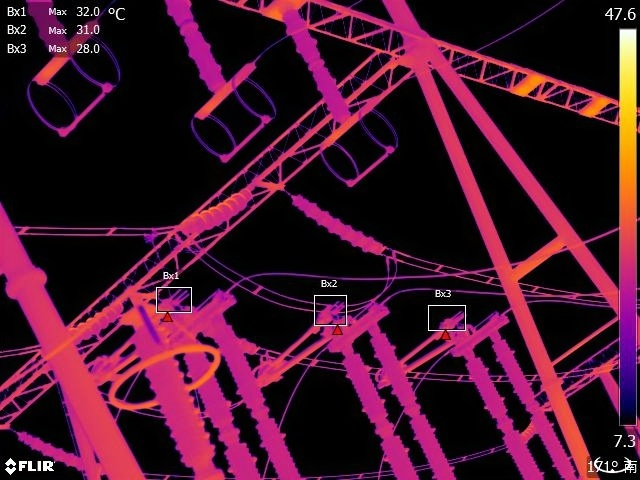insulator: (285, 2, 353, 117), (286, 190, 391, 259), (162, 1, 232, 84), (177, 179, 254, 234), (14, 428, 85, 473), (65, 295, 125, 343), (18, 1, 67, 51)
lightning arrester: (97, 327, 233, 480)
post insulator: (208, 316, 302, 480), (371, 324, 461, 480), (499, 336, 579, 480), (340, 349, 417, 480), (466, 354, 541, 480), (191, 342, 258, 480)
switch: (86, 261, 250, 382), (268, 285, 364, 392), (375, 299, 488, 384)
